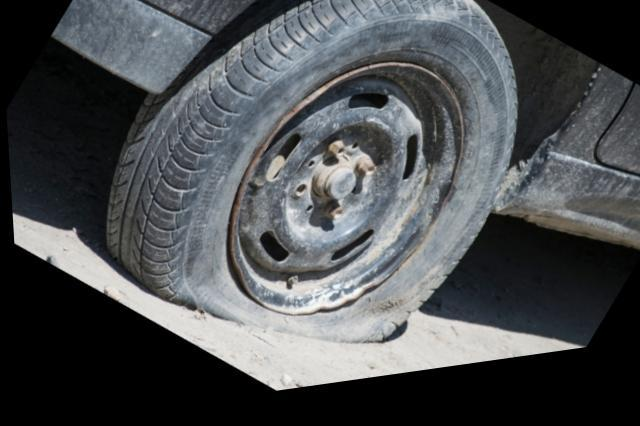tire flat: (100, 0, 519, 353)
